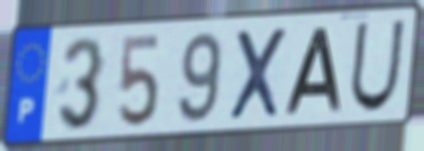3: (49, 34, 110, 135)
5: (115, 31, 164, 131)
9: (174, 30, 226, 125)
A: (282, 25, 345, 116)
U: (347, 17, 408, 116)
X: (227, 24, 290, 124)
